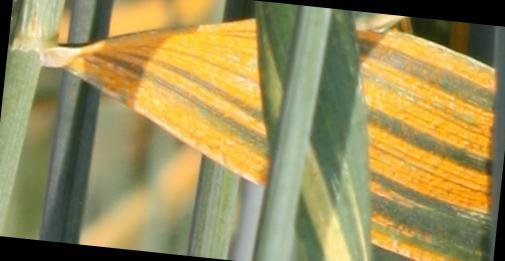Wheat: (159, 27, 254, 164), (375, 50, 489, 157), (379, 128, 481, 219)
